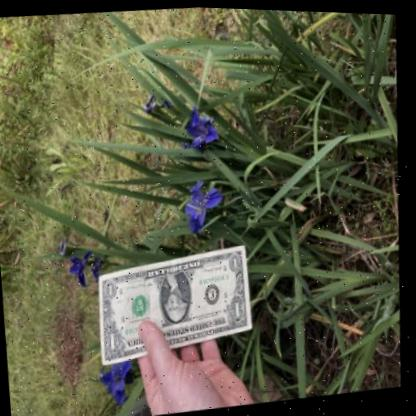one-front: (102, 244, 258, 366)
